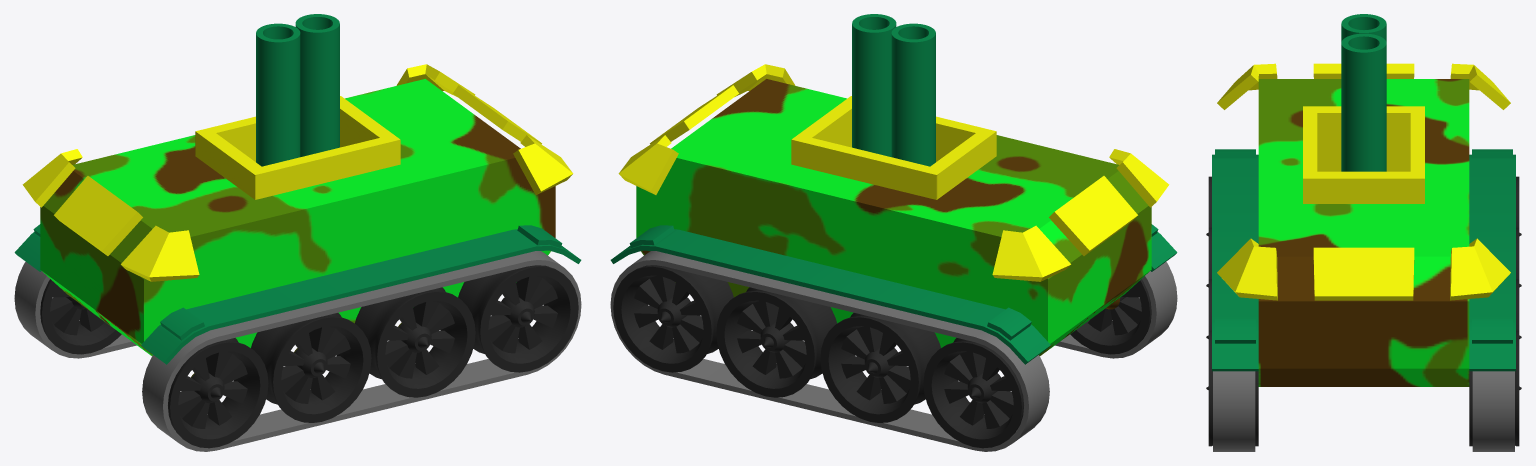
Rendered from Gun08.fbx.
3 views of the same model, side by side, from view 1: azimuth 30°, elevation 25°; view 2: azimuth 150°, elevation 25°; view 3: azimuth 270°, elevation 25° (orthographic).
Visible parts, largest first — view 1: Plane.002, Cylinder.022, Plane.015, Plane.016, Cylinder.058, Cylinder.028, Cylinder.021, Cylinder.008, Cylinder.066, Cylinder.067; view 2: Plane.002, Cylinder.022, Plane.015, Plane.016, Cylinder.058, Cylinder.028, Cylinder.021, Cylinder.008, Cylinder.066, Cylinder.067; view 3: Plane.002, Plane.015, Plane.016, Cylinder.022, Cylinder.067, Cylinder.008, Cylinder.066, Cylinder.021, Cylinder.058, Cylinder.028.
Boxes of the visible parts, x1,y1,x2,y2 form: Plane.002: [40, 79, 555, 355]; Cylinder.022: [14, 251, 581, 451]; Plane.015: [14, 224, 581, 364]; Plane.016: [22, 64, 573, 281]; Cylinder.058: [40, 279, 268, 448]; Cylinder.028: [355, 287, 475, 397]; Cylinder.021: [251, 313, 371, 422]; Cylinder.008: [458, 265, 578, 372]; Cylinder.066: [256, 23, 300, 166]; Cylinder.067: [295, 14, 339, 156]; Plane.002: [636, 79, 1151, 355]; Cylinder.022: [610, 251, 1177, 451]; Plane.015: [610, 224, 1177, 364]; Plane.016: [618, 64, 1169, 281]; Cylinder.058: [923, 279, 1151, 448]; Cylinder.028: [716, 287, 836, 397]; Cylinder.021: [820, 313, 940, 422]; Cylinder.008: [613, 265, 733, 372]; Cylinder.066: [891, 23, 935, 166]; Cylinder.067: [852, 14, 896, 156]; Plane.002: [1258, 79, 1469, 386]; Plane.015: [1212, 149, 1515, 371]; Plane.016: [1217, 63, 1510, 300]; Cylinder.022: [1213, 371, 1514, 451]; Cylinder.067: [1341, 33, 1386, 171]; Cylinder.008: [1206, 330, 1521, 446]; Cylinder.066: [1341, 14, 1386, 42]; Cylinder.021: [1206, 227, 1521, 287]; Cylinder.058: [1206, 176, 1521, 236]; Cylinder.028: [1206, 279, 1521, 338].
Bounding box in the file's own units: 491 × 352 × 300.
Materials: 1 (1 with a texture image).
